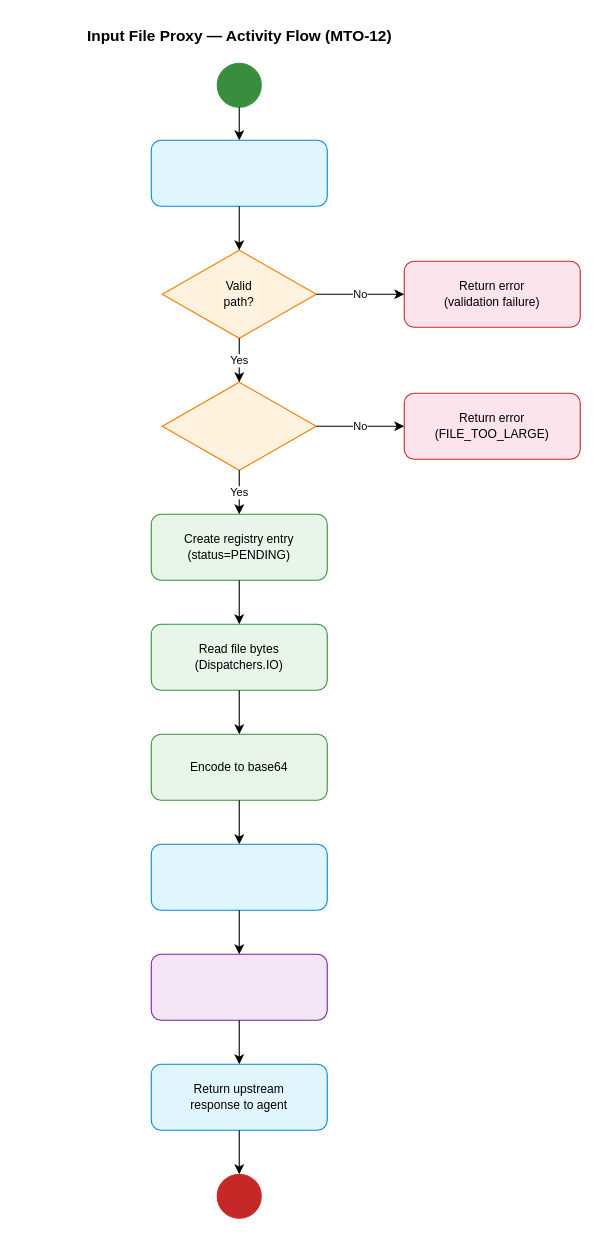
The diagram is 600 pixels wide and 1238 high, and some of its shapes have lost their labels. Here are the shapes that lost their labels. From the top down, the centre of each, then its label:
At (x=238, y=172): "Receive wrapper tool call with file_path / file_id".
At (x=238, y=425): "Size ≤ max?".
At (x=238, y=876): "Call upstream tool with base64 content".
At (x=238, y=986): "Cleanup: delete registry entry + temp file (finally)".
